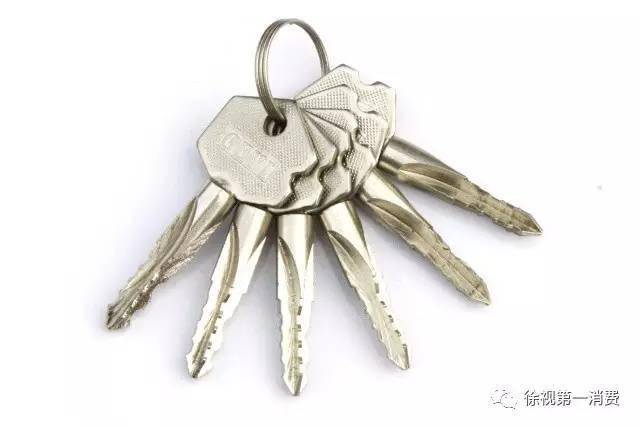key: (99, 90, 318, 335)
